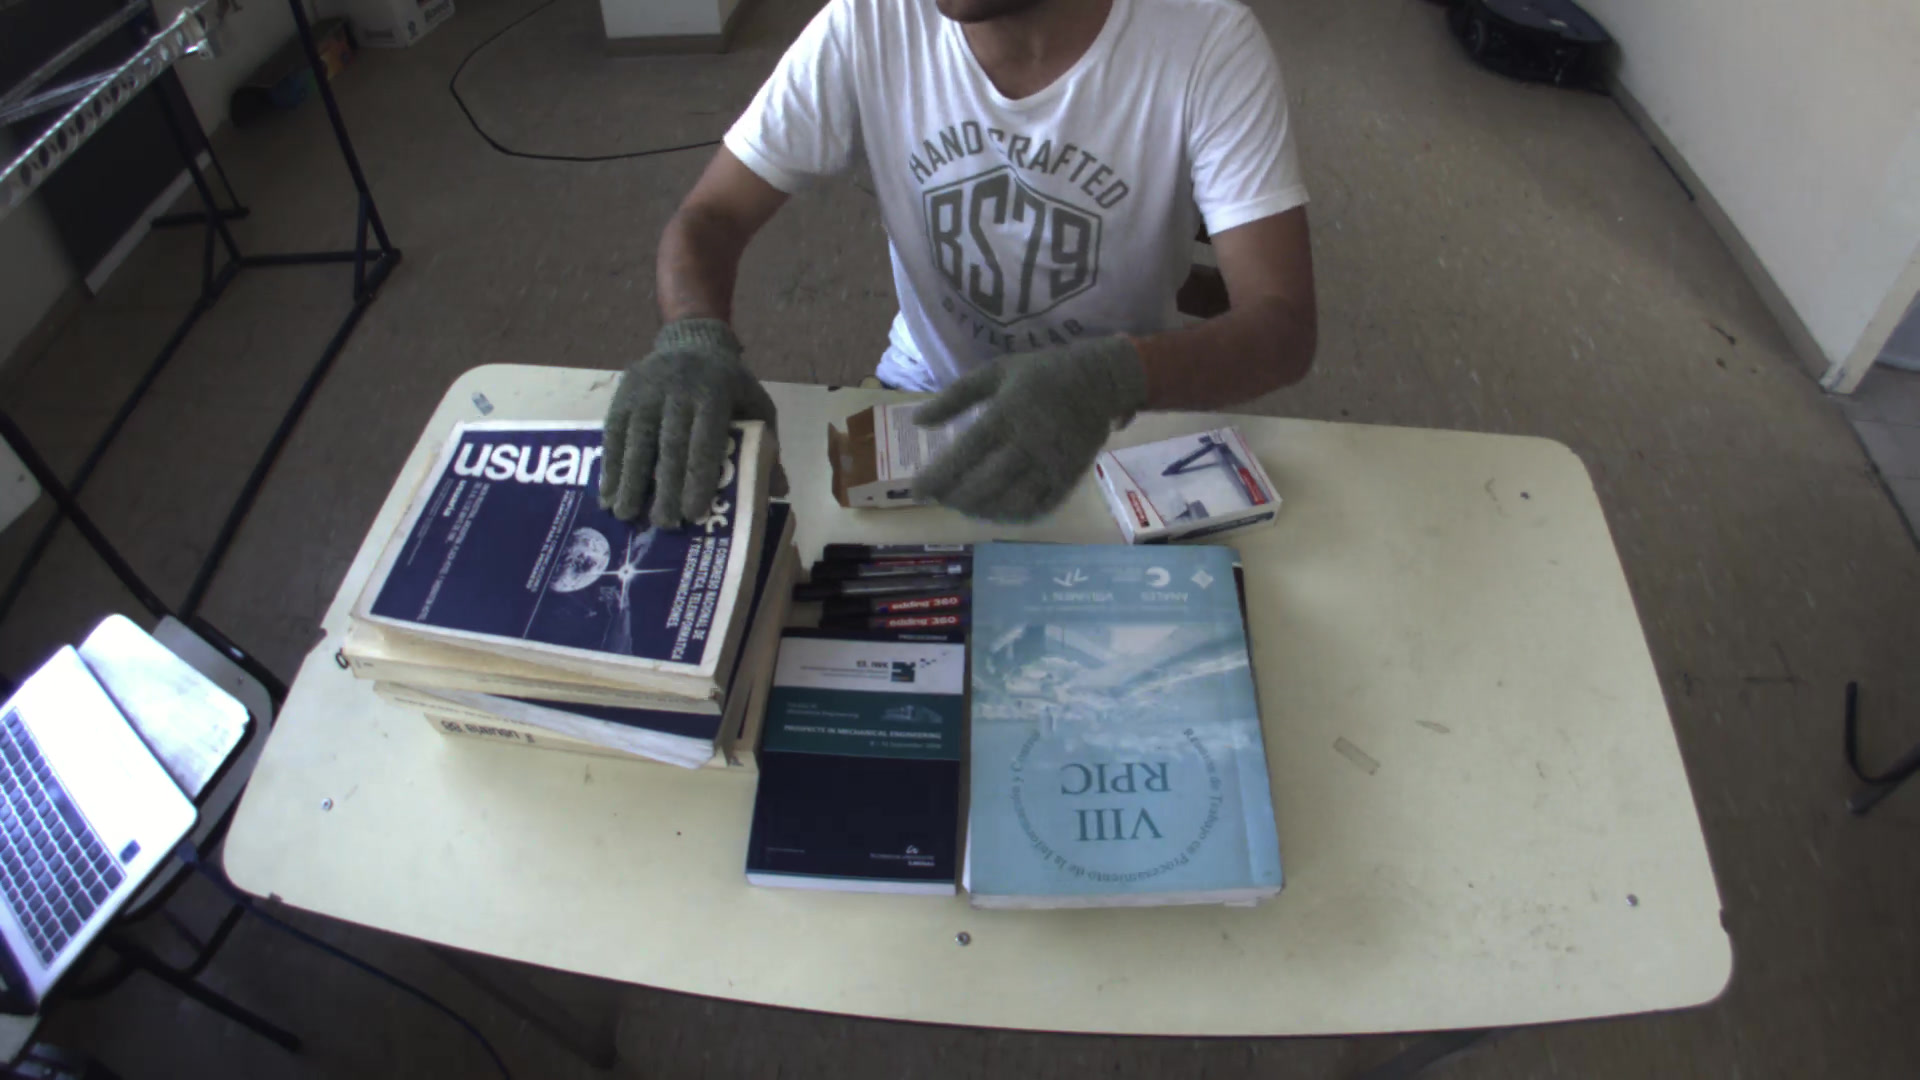hand: (899, 318, 1149, 531), (585, 298, 777, 534)
